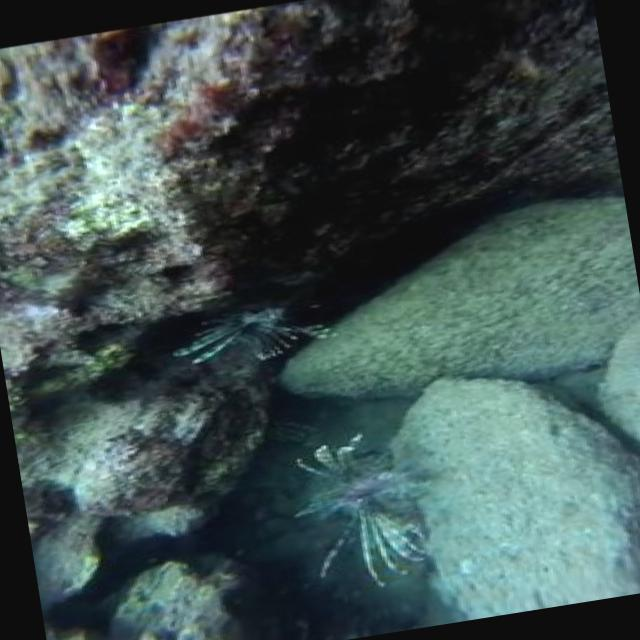Aslan Baligi: (256, 413, 468, 602), (161, 283, 349, 382)
